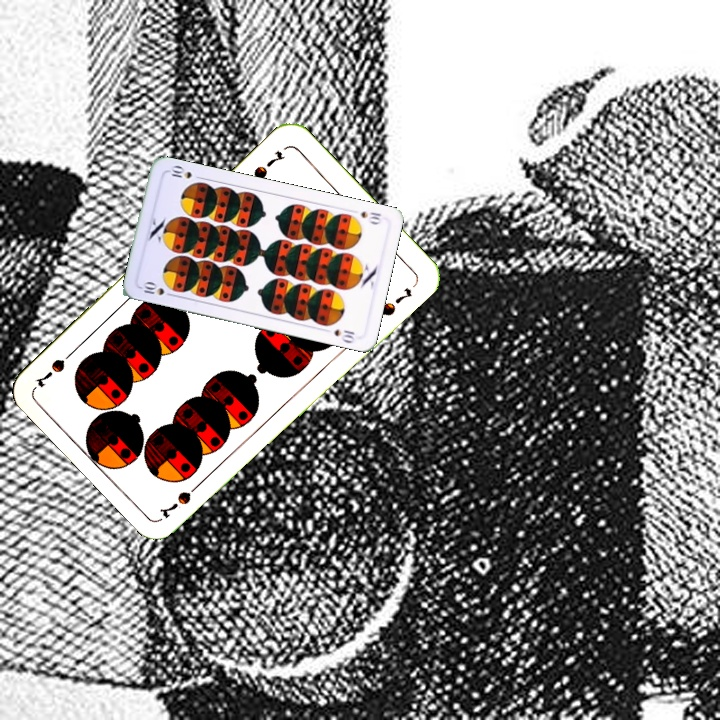S10: (137, 278, 177, 299), (357, 207, 384, 227)
S7: (156, 476, 206, 521), (249, 147, 289, 183)
